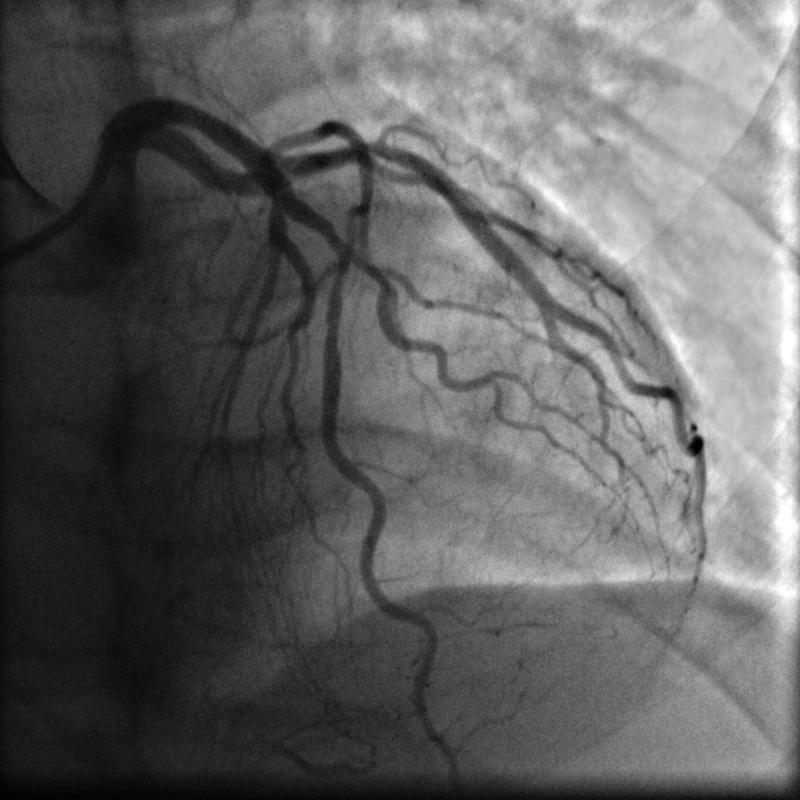Stenosis: (323, 238, 351, 317)
